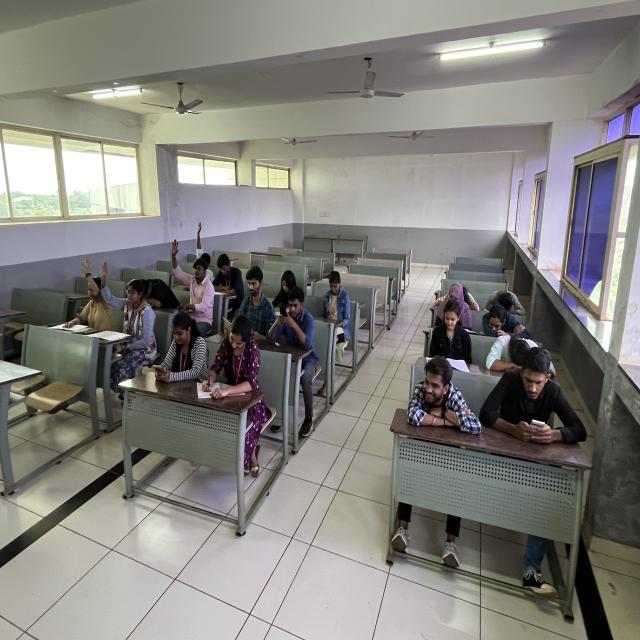Hand Rising: (99, 259, 161, 368), (163, 235, 215, 322), (58, 249, 104, 343), (182, 216, 218, 279)
Reading: (428, 303, 486, 372), (219, 270, 276, 334), (270, 262, 321, 316), (212, 245, 247, 302)
Sleeping: (489, 330, 564, 378), (121, 252, 181, 309), (484, 277, 545, 321), (480, 294, 536, 339), (430, 280, 482, 318)
Using Phone: (486, 352, 586, 452), (151, 311, 209, 383), (272, 294, 327, 361), (321, 270, 373, 331)
Writing: (196, 320, 268, 402)
